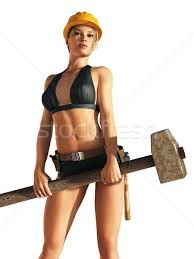Person_wearing_helmet: (57, 9, 103, 36)
